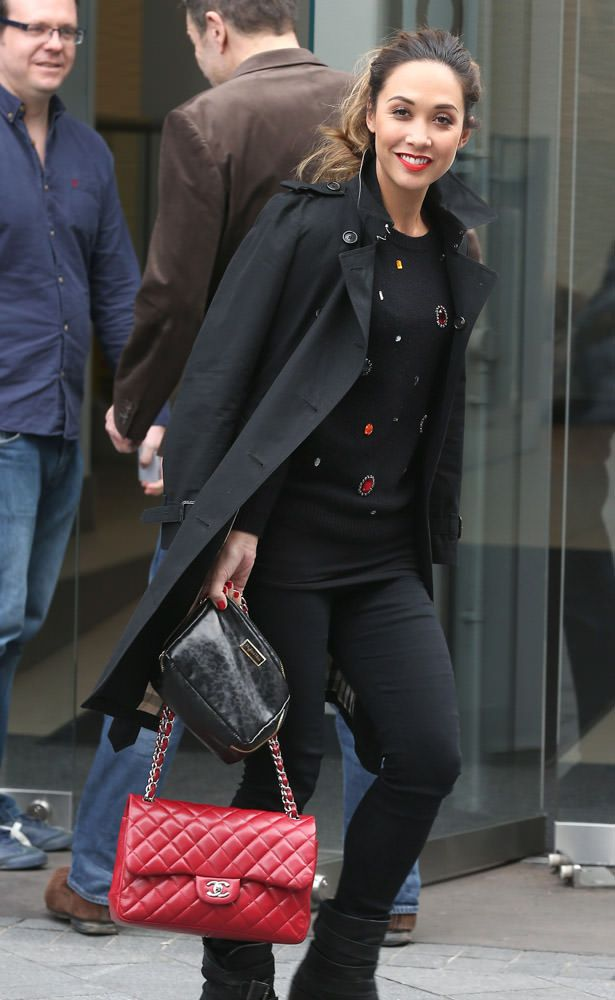channel: (121, 792, 323, 944), (143, 705, 165, 807), (196, 878, 240, 908)
